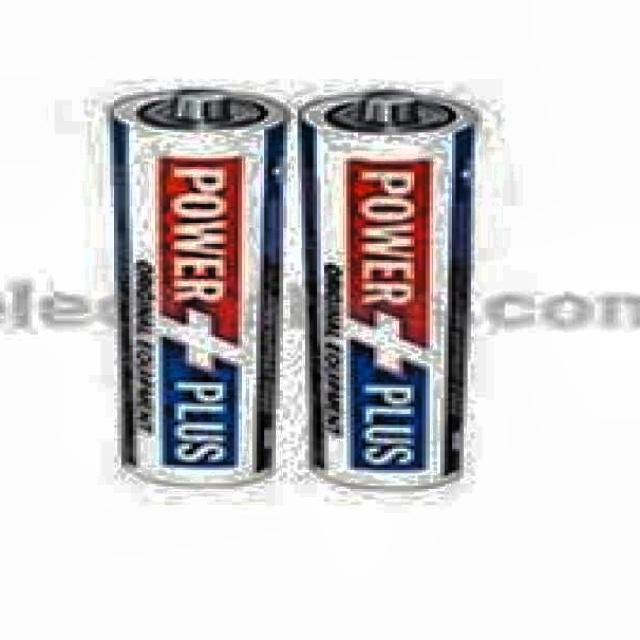battery: (302, 90, 475, 486), (114, 90, 283, 487)
